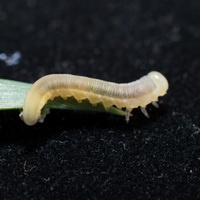insect: (20, 71, 167, 124)
